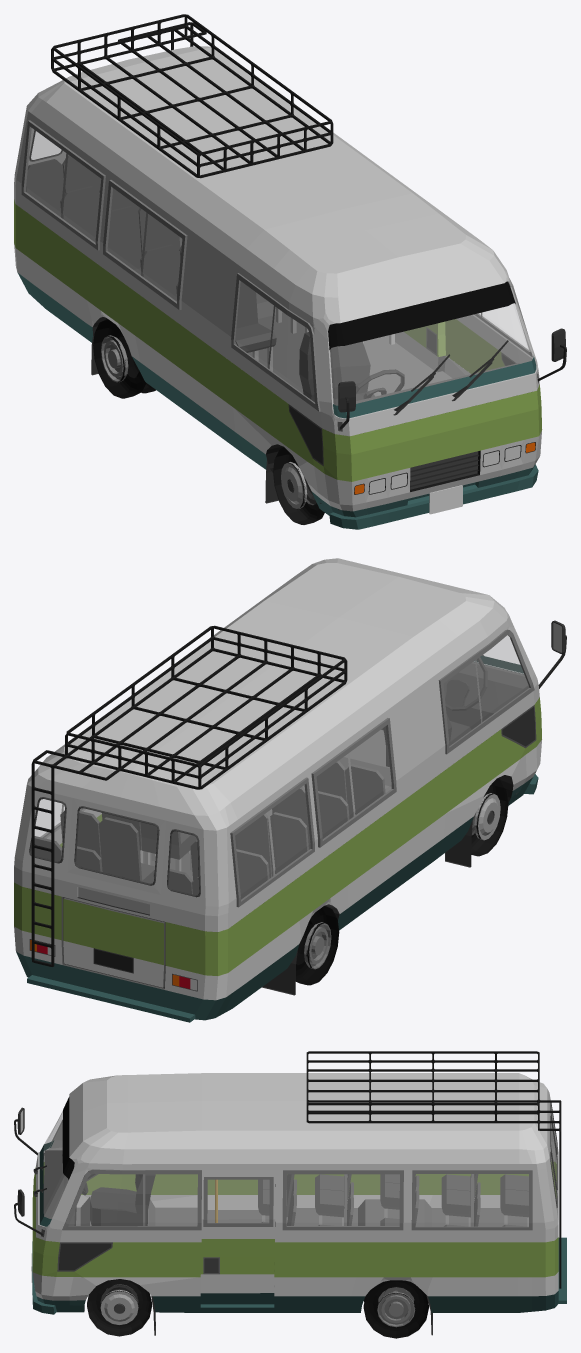
File: mini-bus.glb
The picture shows the model from 3 angles, top to bottom: view 1: azimuth 30°, elevation 25°; view 2: azimuth 150°, elevation 25°; view 3: azimuth 270°, elevation 25°; orthographic projection. The views are drawn at different scales.
Parts seen in each view (by area): view 1: mini-bus; view 2: mini-bus; view 3: mini-bus.
Part boxes in pixels (left/top/right/bottom): mini-bus: left=14, top=14, right=566, bottom=529; mini-bus: left=14, top=558, right=566, bottom=1022; mini-bus: left=14, top=1051, right=566, bottom=1338.
Size of the model in its own units: 1.93 by 2.26 by 5.15.
4 materials, 1 textured.
